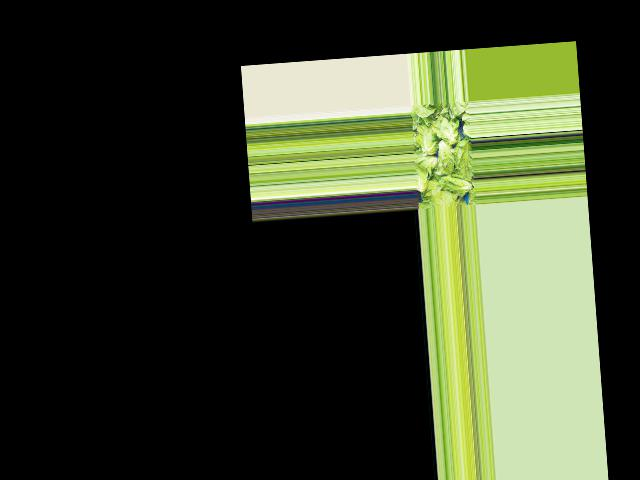lettuce: (415, 161, 430, 197)
